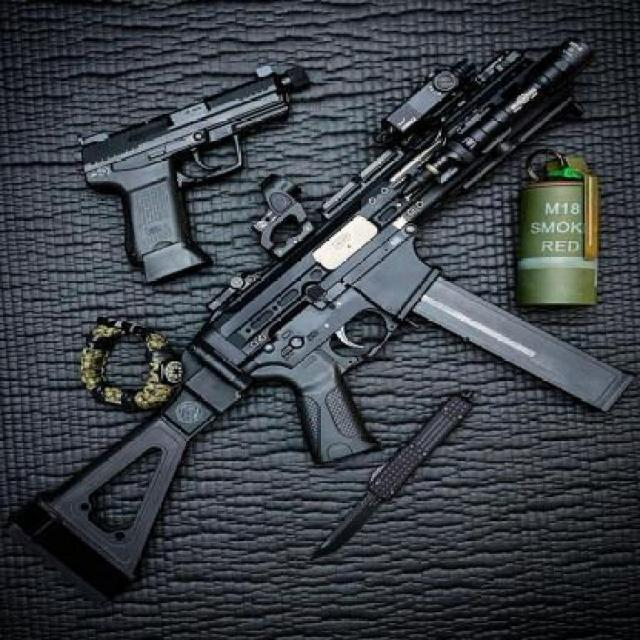Grenade: (512, 148, 603, 309)
Knife: (307, 386, 478, 562)
Pistol: (76, 61, 316, 286)
Rifle: (8, 35, 634, 608)
